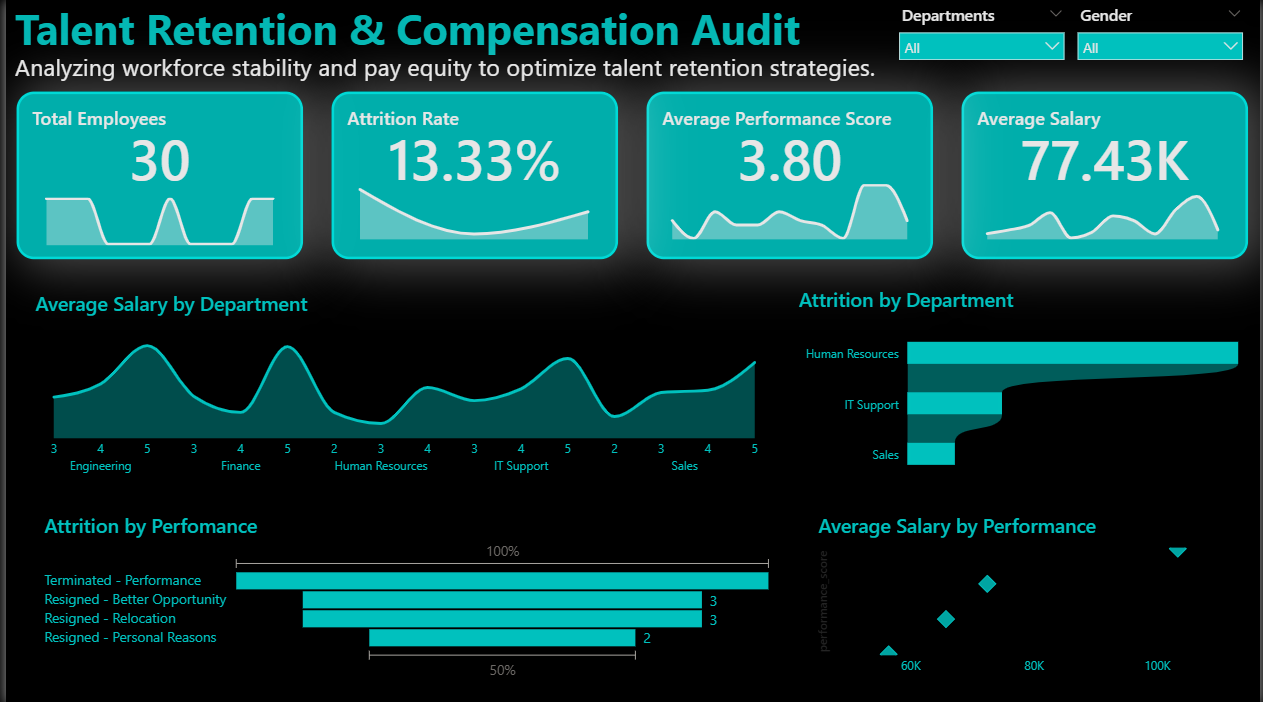

The page's visual inventory and layout, read from the dashboard file:
{"tool":"powerbi","page":{"name":"Page 2","canvas":[1280,720],"ordinal":1},"visuals":[{"type":"textbox","box":[9.2,0,813.4,68.9],"z":0},{"type":"shape","box":[10.7,93.4,292.6,171.6],"z":0,"group":"g1"},{"type":"textbox","box":[9.2,52.1,883.9,46],"z":1000},{"type":"card","title":"Total Employees","fields":{"Values":["Measure_table.EM_count"]},"box":[10.7,93.4,292.6,108.9],"z":1000,"group":"g1"},{"type":"shape","box":[653.5,93.4,292.6,171.6],"z":1000,"group":"g3"},{"type":"group","id":"g1","title":"Group 1","box":[10.7,93.4,292.6,171.6],"z":2000},{"type":"areaChart","fields":{"Y":["Measure_table.EM_count"],"Category":["public employees.hire_date.Variation.Date Hierarchy.Month"]},"box":[23,183.8,268.1,76.6],"z":2000,"group":"g1"},{"type":"group","id":"g2","title":"Group 2","box":[975.8,93.4,292.6,171.6],"z":3000},{"type":"shape","box":[332.4,93.4,292.6,171.6],"z":4000,"group":"g4"},{"type":"group","id":"g3","title":"Group 4","box":[653.5,93.4,292.6,171.6],"z":4000},{"type":"shape","box":[975.8,93.4,292.6,171.6],"z":4000,"group":"g2"},{"type":"slicer","fields":{"Values":["public departments.department_name"]},"box":[906.9,4.6,179.2,70.5],"z":5000},{"type":"card","title":"Attrition Rate","fields":{"Values":["Measure_table.attrition_rate"]},"box":[332.4,93.4,292.6,108.9],"z":5000,"group":"g4"},{"type":"card","title":"Average Salary","fields":{"Values":["Measure_table.average_salary"]},"box":[975.8,93.4,292.6,108.9],"z":5000,"group":"g2"},{"type":"group","id":"g4","title":"Group 2","box":[304.4,93.4,346.2,171.6],"z":6000},{"type":"areaChart","fields":{"Category":["public employees.hire_date.Variation.Date Hierarchy.Month"],"Y":["Measure_table.attrition_rate"]},"box":[304.4,170.5,346.2,84.4],"z":6000,"group":"g4"},{"type":"areaChart","fields":{"Y":["Measure_table.average_salary"],"Category":["public employees.hire_date.Variation.Date Hierarchy.Month"]},"box":[983.6,170.5,272.7,84.4],"z":6000,"group":"g2"},{"type":"slicer","fields":{"Values":["public employees.Gender"]},"box":[1089.2,4.6,179.2,70.5],"z":7000},{"type":"barChart","title":"Attrition by Department","fields":{"Category":["public departments.department_name"],"Y":["Sum(public attrition.attrition_id)"]},"box":[799.7,281.9,468.8,226.7],"z":8000},{"type":"card","title":"Average Performance Score","fields":{"Values":["Measure_table.average_performance_score"]},"box":[653.5,93.4,292.6,108.9],"z":9000,"group":"g3"},{"type":"areaChart","title":"Average Salary by Department","fields":{"Category":["public departments.department_name","public performance_reviews.performance_score"],"Y":["Avg(public salaries.salary_amount)"]},"box":[13.8,281.9,785.9,226.7],"z":9000},{"type":"areaChart","fields":{"Category":["public employees.hire_date.Variation.Date Hierarchy.Month"],"Y":["Measure_table.average_performance_score"]},"box":[661.4,170.5,277.3,84.4],"z":10000,"group":"g3"},{"type":"funnel","title":"Attrition by Perfomance","fields":{"Category":["public attrition.attrition_reason"],"Y":["Sum(public performance_reviews.performance_score)"]},"box":[23,508.6,776.7,200.7],"z":10000},{"type":"scatterChart","title":"Average Salary by Performance","fields":{"X":["Measure_table.average_salary"],"Y":["public performance_reviews.performance_score"]},"box":[813.4,508.6,455,200.7],"z":11000}]}

Visuals, with their boxes in screenshot pixels (x1, y1, x2, y2), scaled from the page's 1280x720 canvas onto the 1263x702 screenshot:
textbox: select_region(9, 0, 812, 67)
shape: select_region(11, 91, 299, 258)
textbox: select_region(9, 51, 881, 96)
"Total Employees" card: select_region(11, 91, 299, 197)
shape: select_region(645, 91, 934, 258)
"Group 1" group: select_region(11, 91, 299, 258)
areaChart - Measure_table.EM_count x public employees.hire_date.Variation.Date Hierarchy.Month: select_region(23, 179, 287, 254)
"Group 2" group: select_region(963, 91, 1252, 258)
shape: select_region(328, 91, 617, 258)
"Group 4" group: select_region(645, 91, 934, 258)
shape: select_region(963, 91, 1252, 258)
slicer - public departments.department_name: select_region(895, 4, 1072, 73)
"Attrition Rate" card: select_region(328, 91, 617, 197)
"Average Salary" card: select_region(963, 91, 1252, 197)
"Group 2" group: select_region(300, 91, 642, 258)
areaChart - public employees.hire_date.Variation.Date Hierarchy.Month x Measure_table.attrition_rate: select_region(300, 166, 642, 249)
areaChart - Measure_table.average_salary x public employees.hire_date.Variation.Date Hierarchy.Month: select_region(971, 166, 1240, 249)
slicer - public employees.Gender: select_region(1075, 4, 1252, 73)
"Attrition by Department" barChart: select_region(789, 275, 1252, 496)
"Average Performance Score" card: select_region(645, 91, 934, 197)
"Average Salary by Department" areaChart: select_region(14, 275, 789, 496)
areaChart - public employees.hire_date.Variation.Date Hierarchy.Month x Measure_table.average_performance_score: select_region(653, 166, 926, 249)
"Attrition by Perfomance" funnel: select_region(23, 496, 789, 692)
"Average Salary by Performance" scatterChart: select_region(803, 496, 1252, 692)
